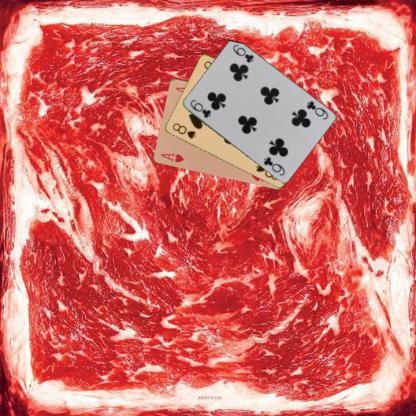6c: (304, 98, 329, 121), (187, 97, 212, 119)
8s: (170, 120, 196, 140)
Ah: (158, 150, 185, 164)
